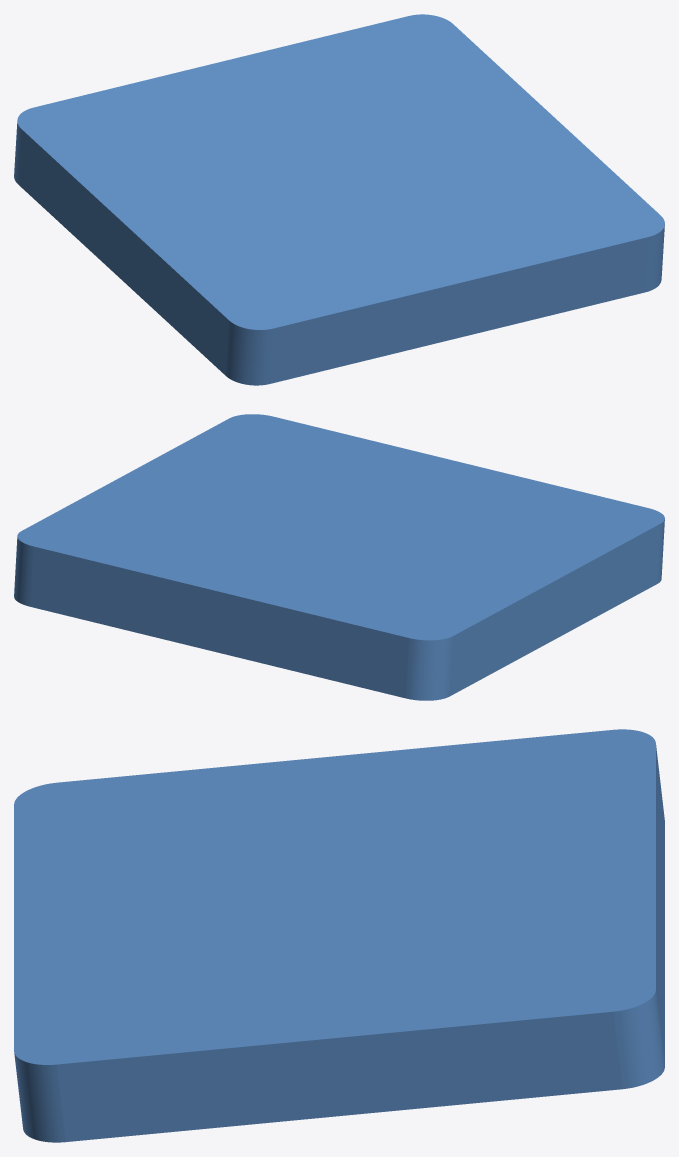
Rendered from original-23.obj.
3 views of the same model, one above another, from view 1: azimuth 30°, elevation 25°; view 2: azimuth 150°, elevation 25°; view 3: azimuth 270°, elevation 25° (orthographic). The views are drawn at different scales.
Parts seen in each view (by area): view 1: Group24/mesh64/mesh64-geometry#mesh64-geometry; view 2: Group24/mesh64/mesh64-geometry#mesh64-geometry; view 3: Group24/mesh64/mesh64-geometry#mesh64-geometry.
Boxes of the visible parts, <box> form: Group24/mesh64/mesh64-geometry#mesh64-geometry: <box>14,14,664,385</box>; Group24/mesh64/mesh64-geometry#mesh64-geometry: <box>14,414,664,700</box>; Group24/mesh64/mesh64-geometry#mesh64-geometry: <box>14,729,664,1142</box>.
Size of the model in its own units: 0.0689 by 0.0158 by 0.0673.
